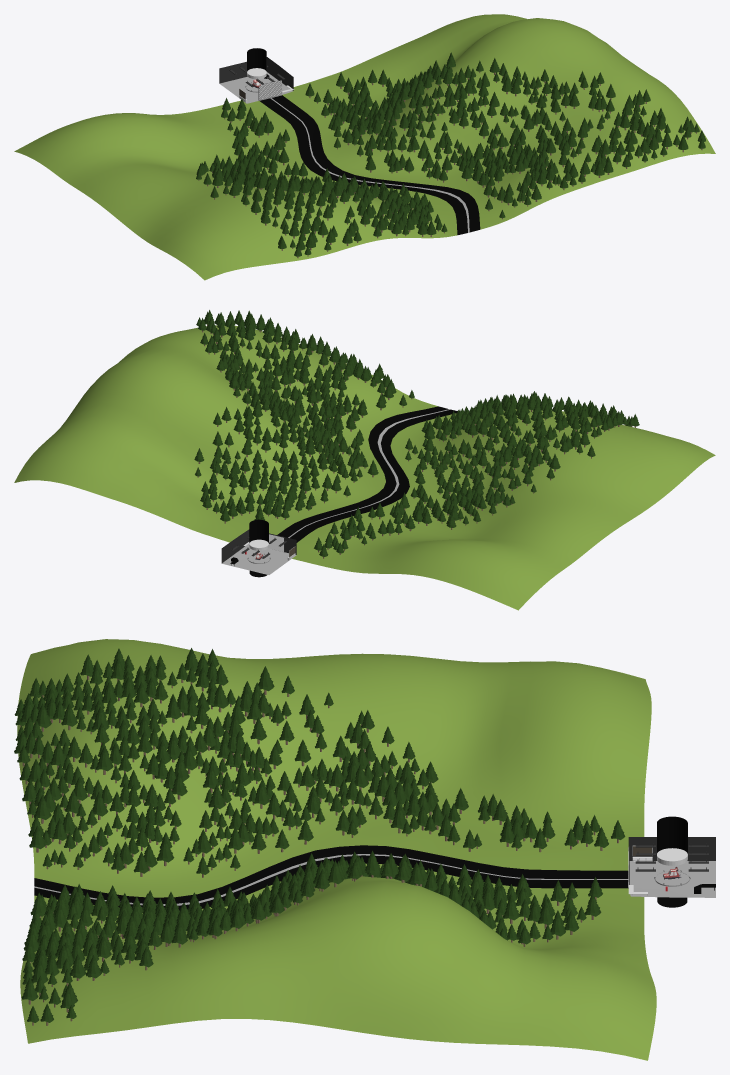
File: garage3.fbx
The picture shows the model from 3 angles, top to bottom: view 1: azimuth 30°, elevation 25°; view 2: azimuth 150°, elevation 25°; view 3: azimuth 270°, elevation 25°; orthographic projection. The views are drawn at different scales.
Parts seen in each view (by area): view 1: outside, walls; view 2: outside, walls; view 3: outside, walls.
Boxes of the visible parts, x1,y1,x2,y2 form: outside: (14,14,715,280); walls: (219,48,293,103); outside: (14,325,715,610); walls: (221,519,296,574); outside: (17,639,656,1060); walls: (628,816,715,897).
Size of the model in its own units: 26649 by 5041 by 19408.
